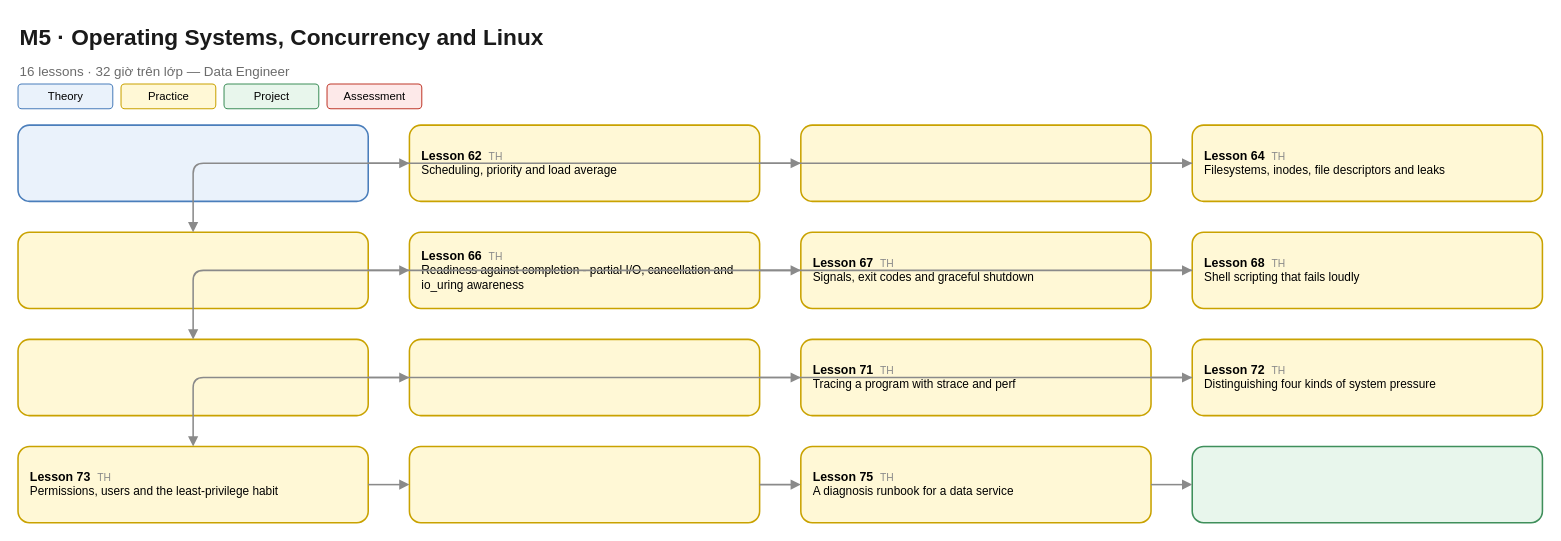
The diagram is 1561 pixels wide and 541 high, and some of its shapes have lost their labels. Each missing label, with the box of its shape:
Lesson 61 LT User mode, kernel mode and the process lifecycle: (17, 124, 369, 202)
Lesson 63 TH Memory - virtual, resident, shared and OOM: (800, 124, 1151, 202)
Lesson 65 TH Non-blocking descriptors, select, poll and epoll: (17, 231, 369, 309)
Lesson 69 TH Services with systemd and the journal: (17, 338, 369, 416)
Lesson 70 TH Races, locks and deadlock at the OS level: (408, 338, 760, 416)
Lesson 74 TH Networking from the command line: (408, 445, 760, 523)
Lesson 76 DA Linux diagnosis project: (1191, 445, 1543, 523)
